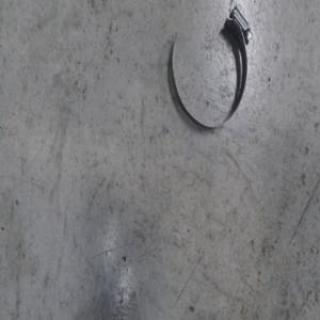AdjustableClamptrack_idkeyframe: (169, 1, 253, 131)
